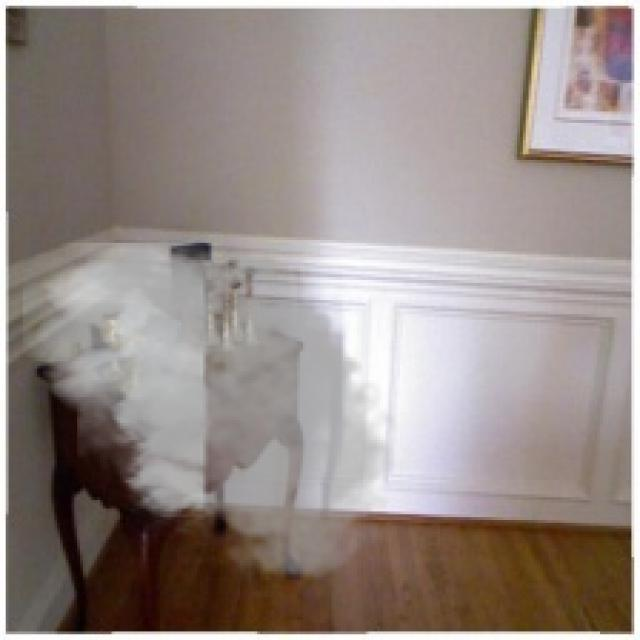Smoke: (22, 228, 408, 586)
